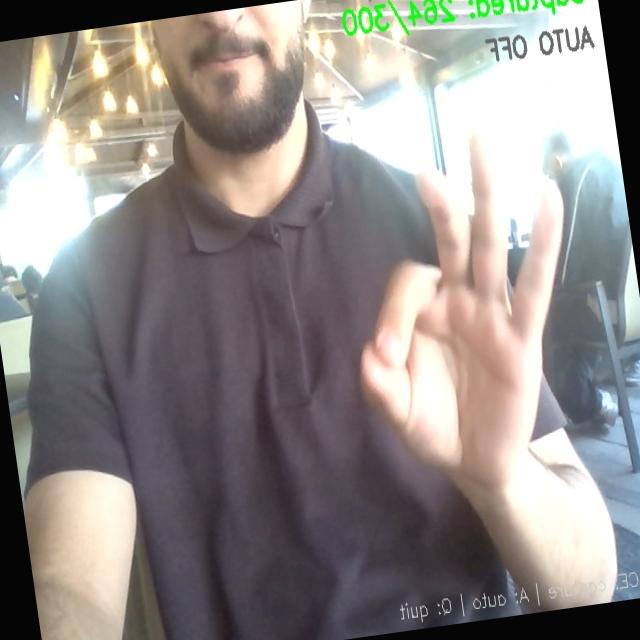Hand: (361, 139, 562, 488)
